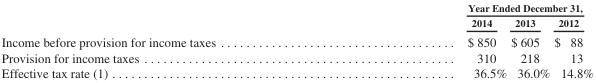table: (0, 1, 592, 79)
table column: (0, 1, 340, 79), (340, 1, 508, 79), (508, 1, 551, 79), (551, 1, 592, 79)
table column header: (0, 1, 592, 31)
table row: (0, 31, 592, 49), (0, 14, 592, 31), (0, 49, 592, 65), (0, 65, 592, 79), (0, 1, 592, 14)
table spanning cell: (340, 1, 592, 14)
